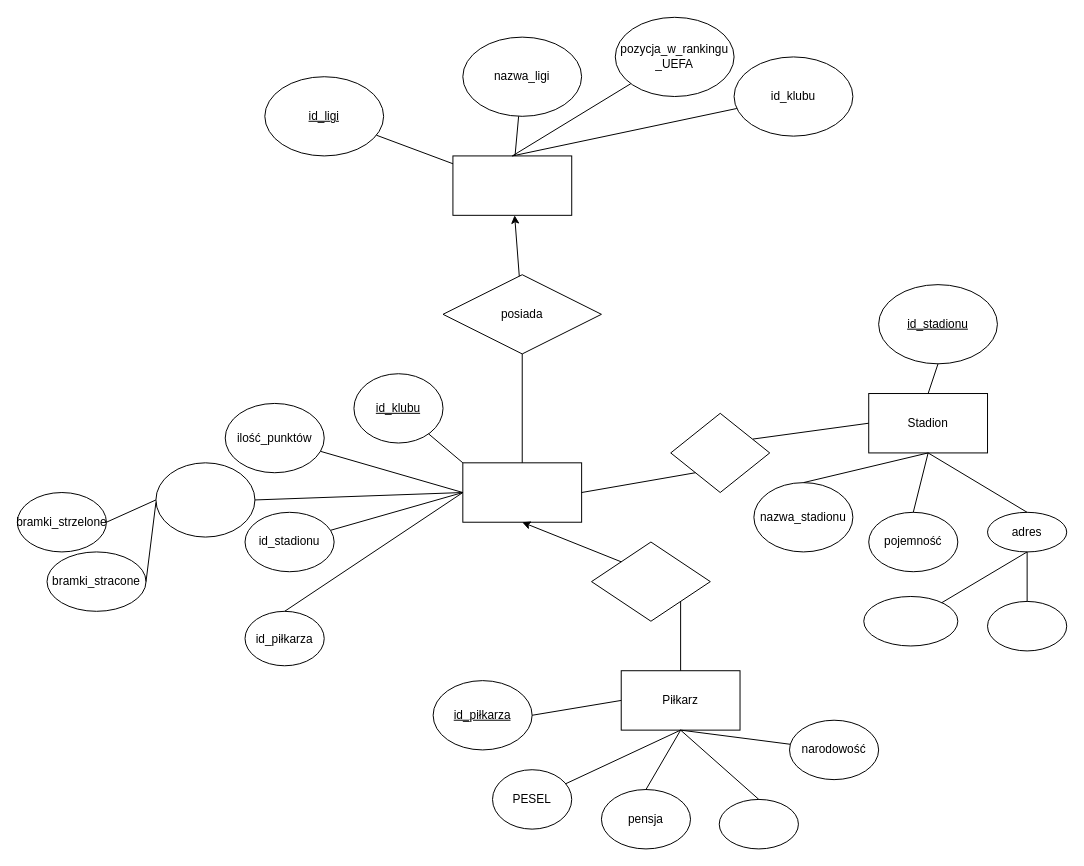
This 1084x866 diagram has some shape labels left out. The box of each missing label's shape, as (x1, y1, x2, y2) in pixels:
bilans_bramkowy: (155, 462, 255, 537)
gra na: (670, 412, 770, 493)
Klub: (462, 462, 582, 522)
Liga piłkarska: (452, 155, 572, 215)
miasto: (863, 595, 958, 646)
pozycja: (718, 798, 798, 849)
ulica: (987, 600, 1067, 651)
zatrudnia: (591, 541, 710, 621)
